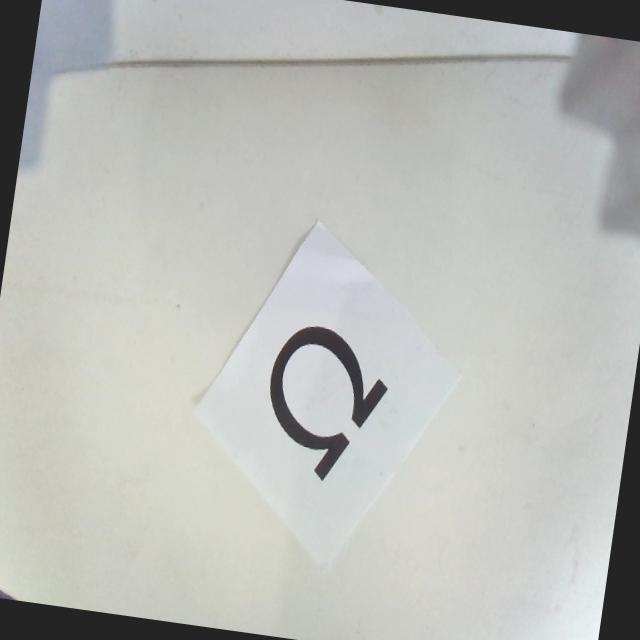OM: (257, 318, 392, 483)
